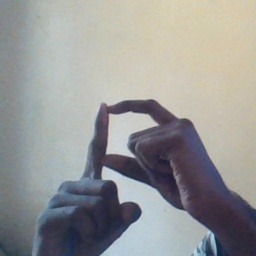D: (67, 96, 194, 211)
